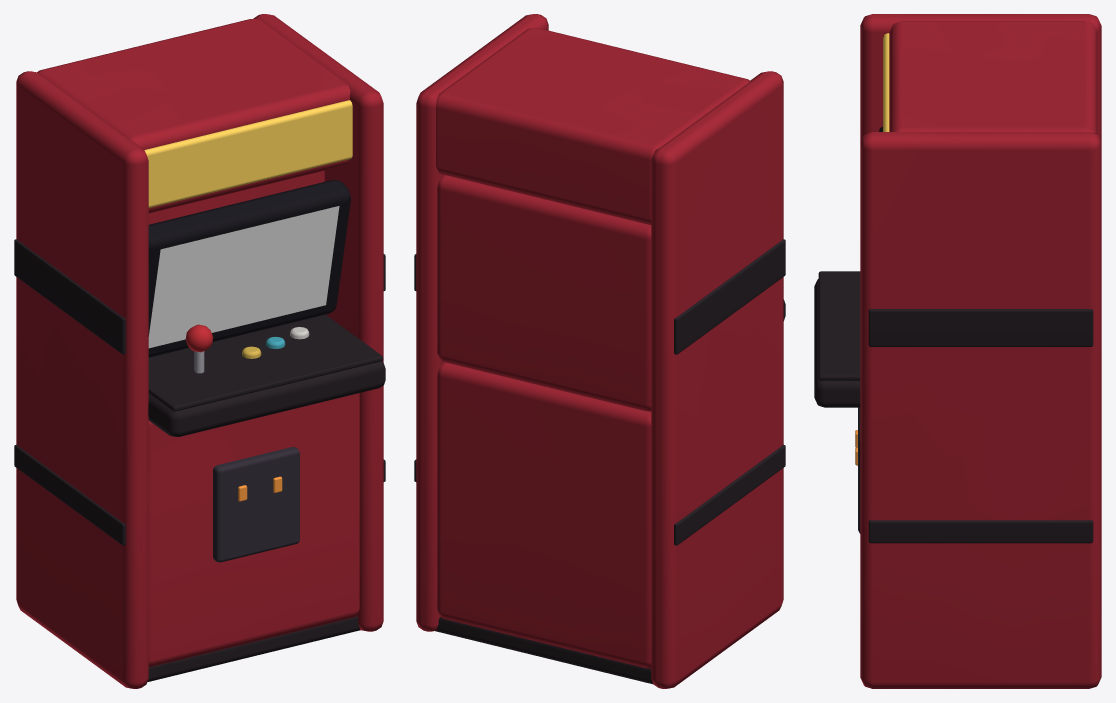
Rendered from furn_cab_blocks.glb.
3 views of the same model, side by side, from view 1: azimuth 30°, elevation 25°; view 2: azimuth 150°, elevation 25°; view 3: azimuth 270°, elevation 25° (orthographic). The views are drawn at different scales.
Parts seen in each view (by area): view 1: furn_cab_blocks_main, furn_cab_blocks_screen, furn_cab_blocks_glow; view 2: furn_cab_blocks_main; view 3: furn_cab_blocks_main, furn_cab_blocks_glow.
Part boxes in pixels (left/top/right/bottom): furn_cab_blocks_main: left=14, top=14, right=385, bottom=688; furn_cab_blocks_screen: left=148, top=206, right=339, bottom=348; furn_cab_blocks_glow: left=144, top=100, right=352, bottom=501; furn_cab_blocks_main: left=414, top=14, right=785, bottom=688; furn_cab_blocks_main: left=814, top=14, right=1101, bottom=688; furn_cab_blocks_glow: left=855, top=33, right=889, bottom=465.
Size of the model in its own units: 0.752 by 1.47 by 0.69.
